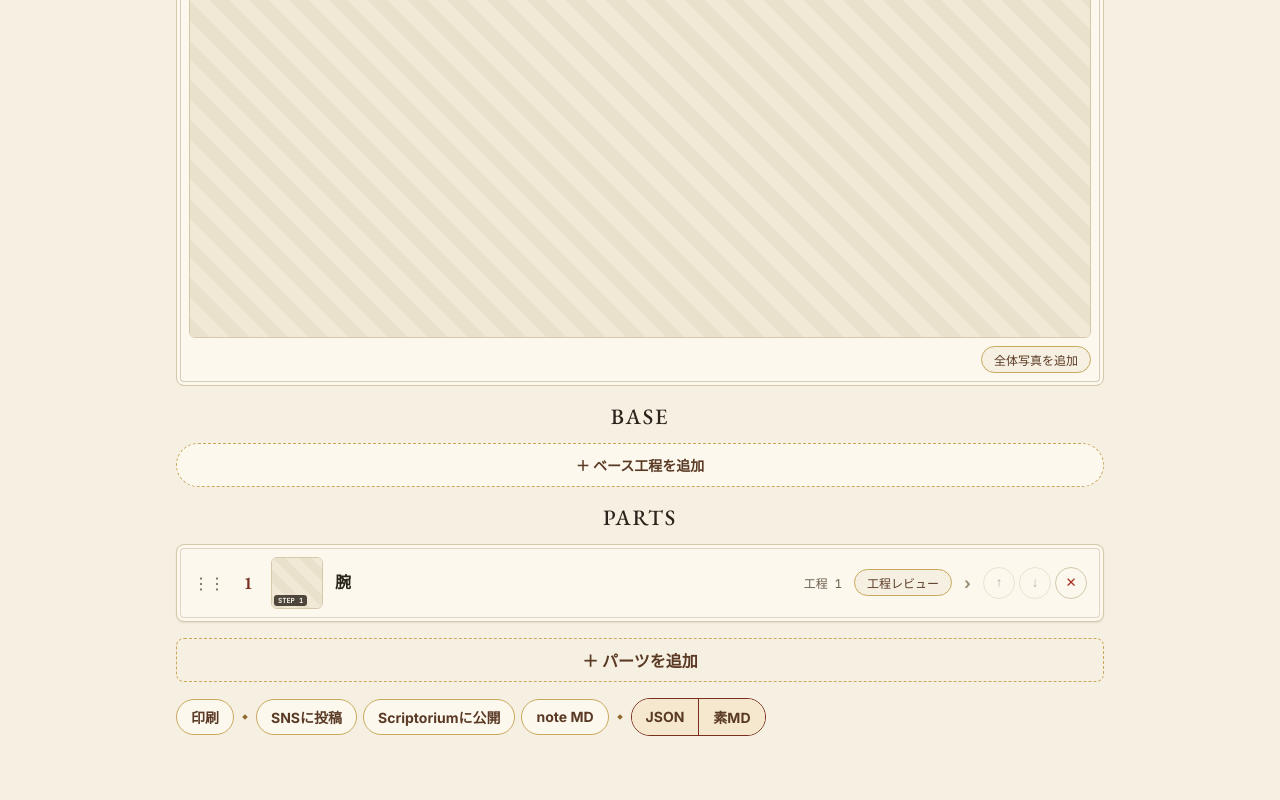
Scenario: RecipeOverviewPage — パーツ削除（T50） › 削除ボタン→キャンセルではパーツ数・写真とも変化しない
The width and height of the screenshot is (1280, 800).
(page scrolled)
Click the button named "腕を削除" at (1071, 582), box [1055, 566, 1087, 598]
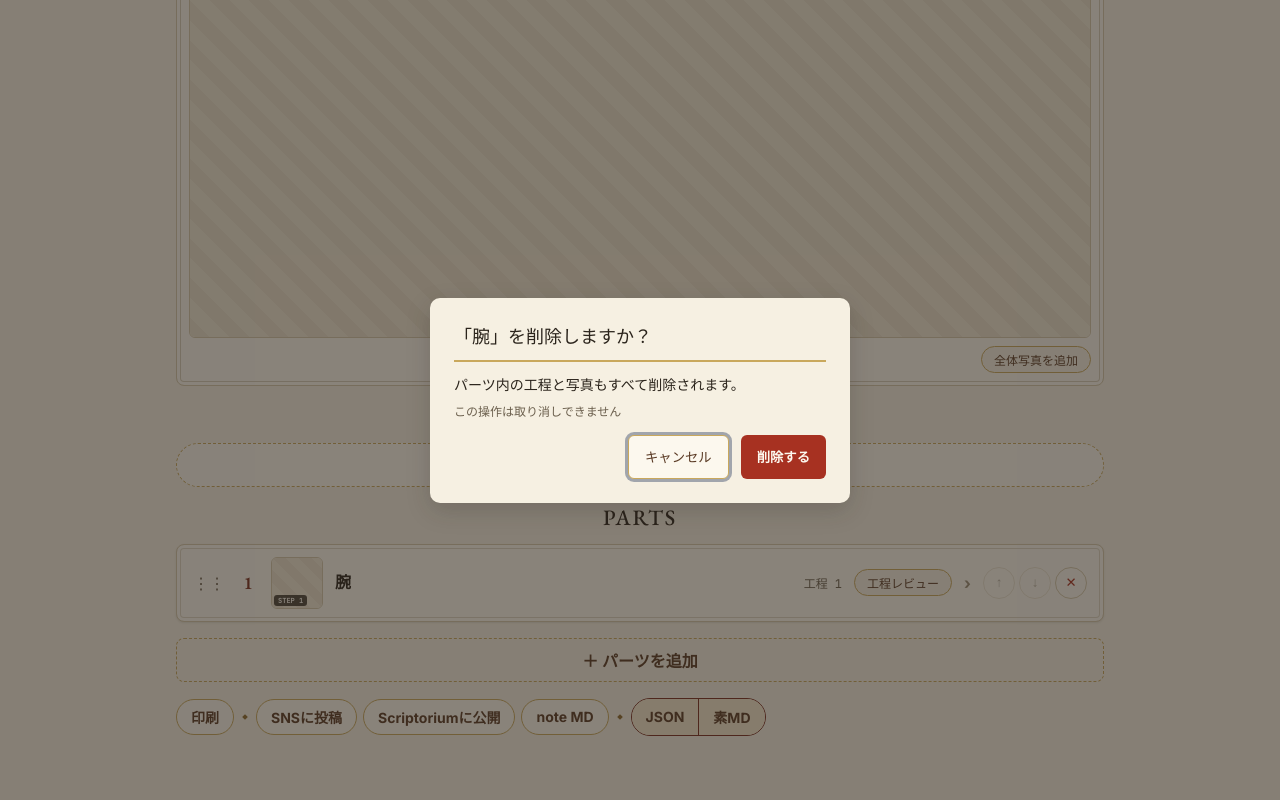
Result: the dialog "「腕」を削除しますか？" is shown at [430, 298, 850, 502]
Click the button "キャンセル" at (678, 456), box [628, 434, 729, 478]
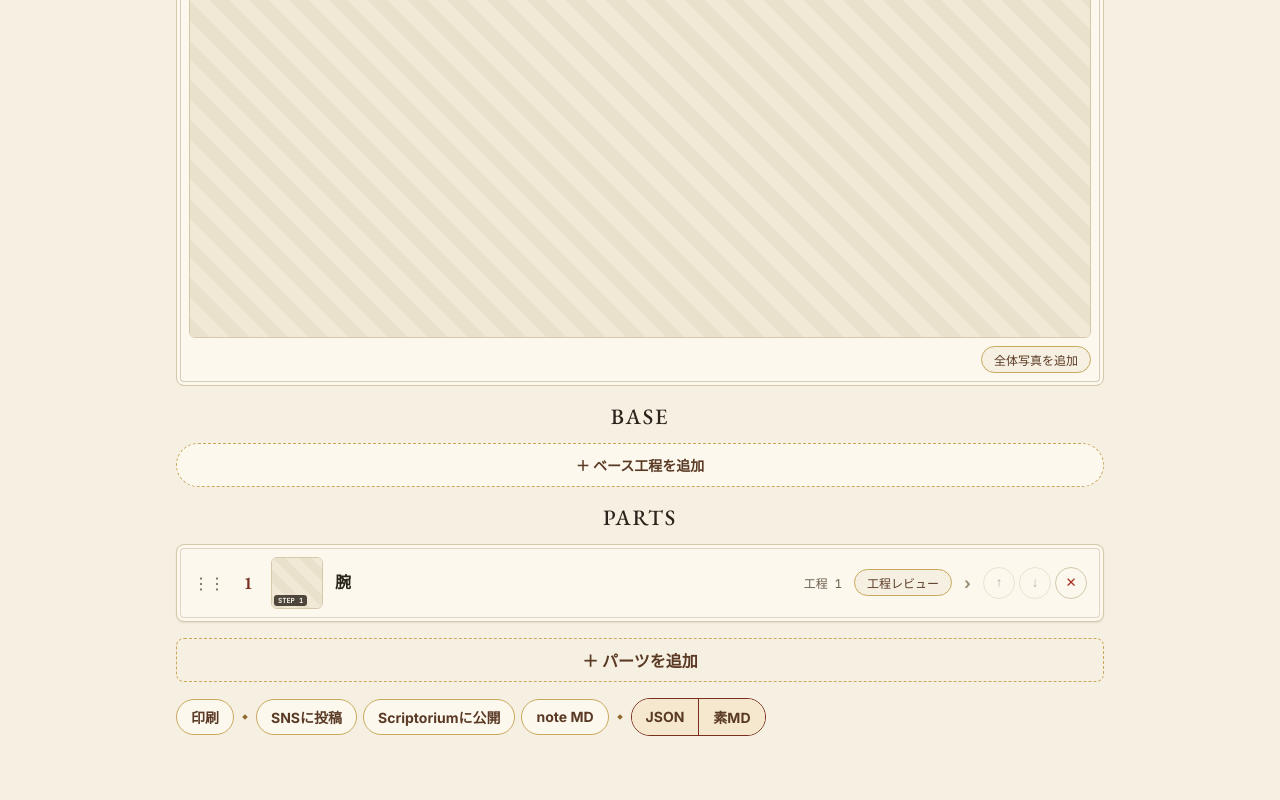
Expected: the number of buttons with test id "part-card" is 1, [176, 544, 1104, 622]
Result: the dialog is gone
